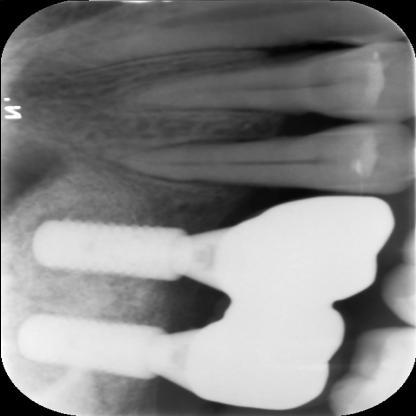ITI: (12, 307, 166, 391), (30, 210, 190, 286)
